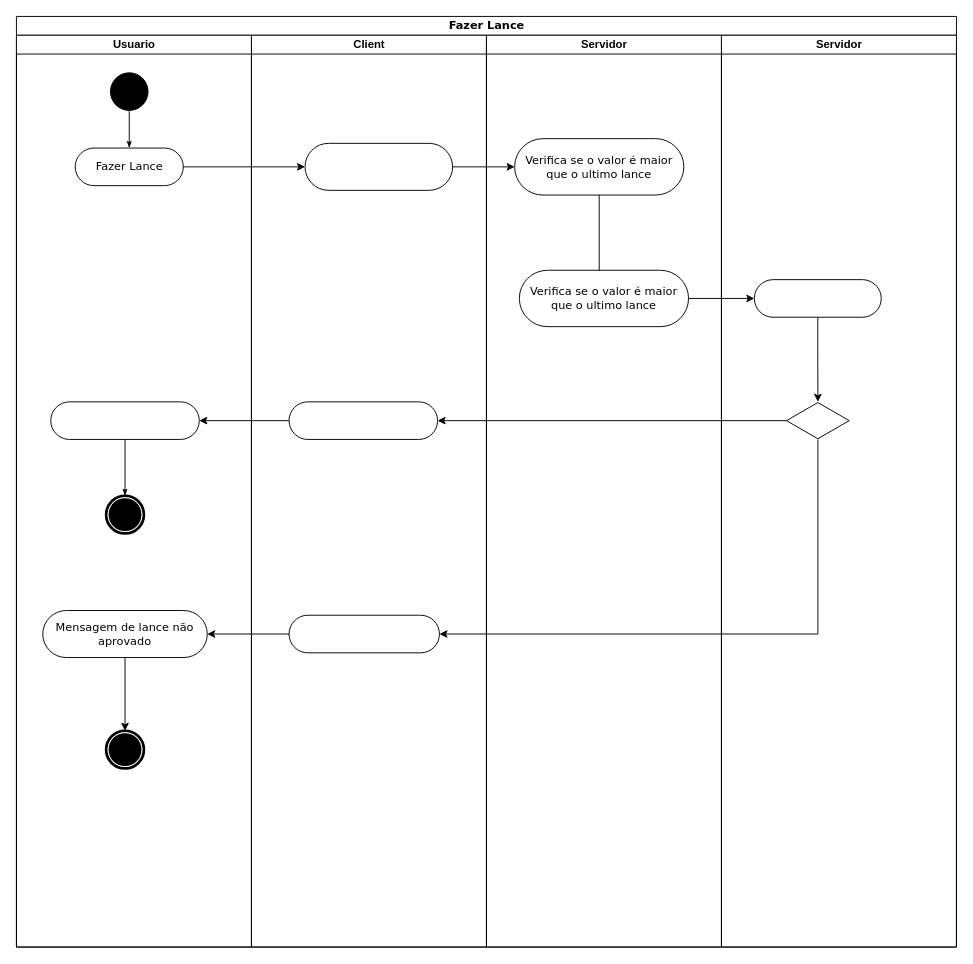
Some shapes in this 973 by 964 pixel diagram are drawn without their labels. Here are the shapes that lost their labels. From the top down, the centre of each, then its label:
(378,166): Envia Valor Do Lance
(817,298): Grava Lance
(124,420): Exibe o Lance
(363,420): Adiciona Lance no Log
(363,633): Lance não aprovado
